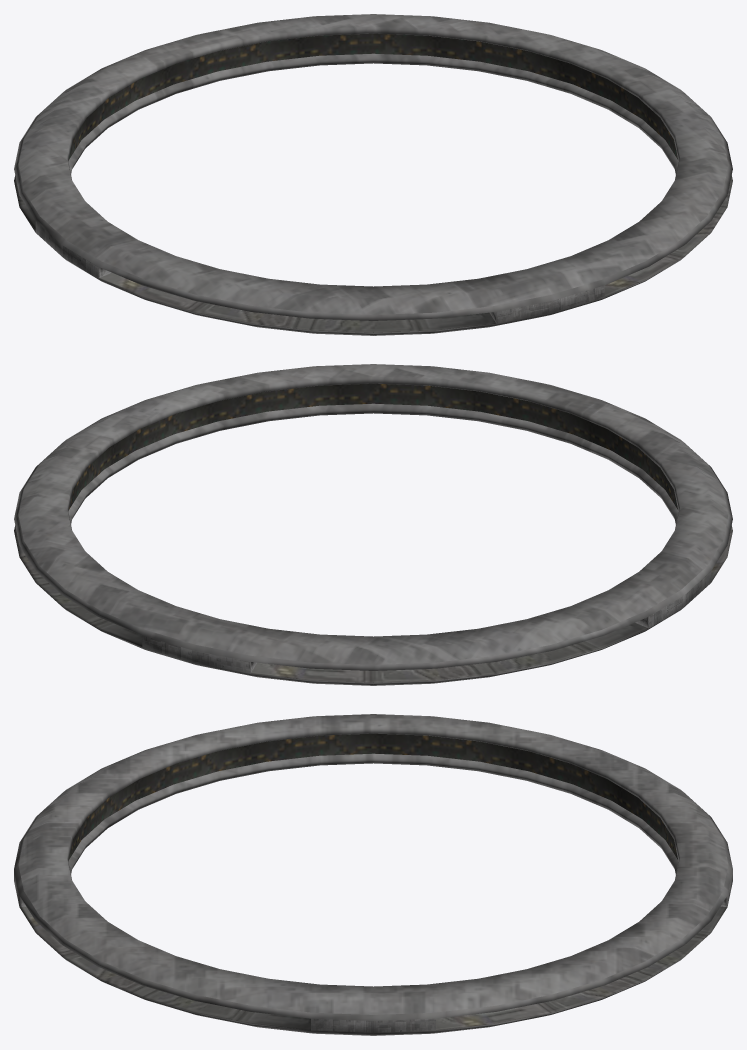
Rendered from Hangar.FBX.
3 renders of one model, top to bottom at view 1: azimuth 30°, elevation 25°; view 2: azimuth 150°, elevation 25°; view 3: azimuth 270°, elevation 25°, orthographic.
Visible parts, largest first — view 1: Tube_3; view 2: Tube_3; view 3: Tube_3.
Part boxes in pixels (x1,y1,x2,y2): Tube_3: (14, 14, 732, 335); Tube_3: (14, 364, 732, 685); Tube_3: (14, 714, 732, 1035).
Bounding box in the file's own units: 20575 × 1143 × 20575.
